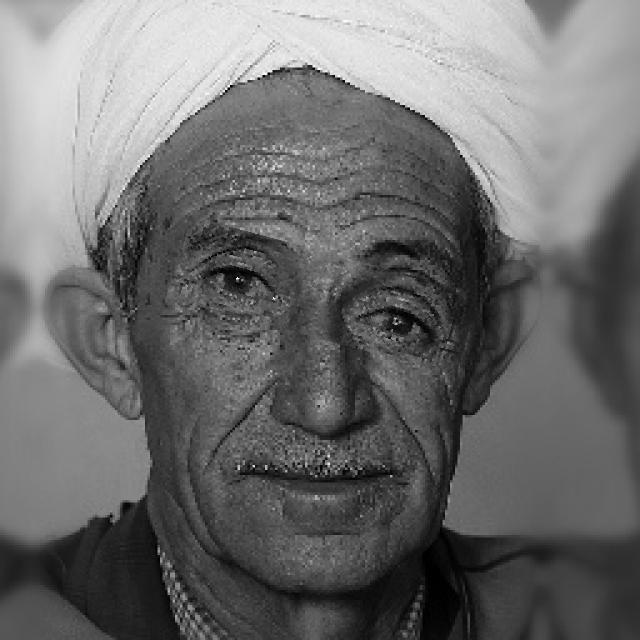no-glasses: (169, 234, 476, 357)
